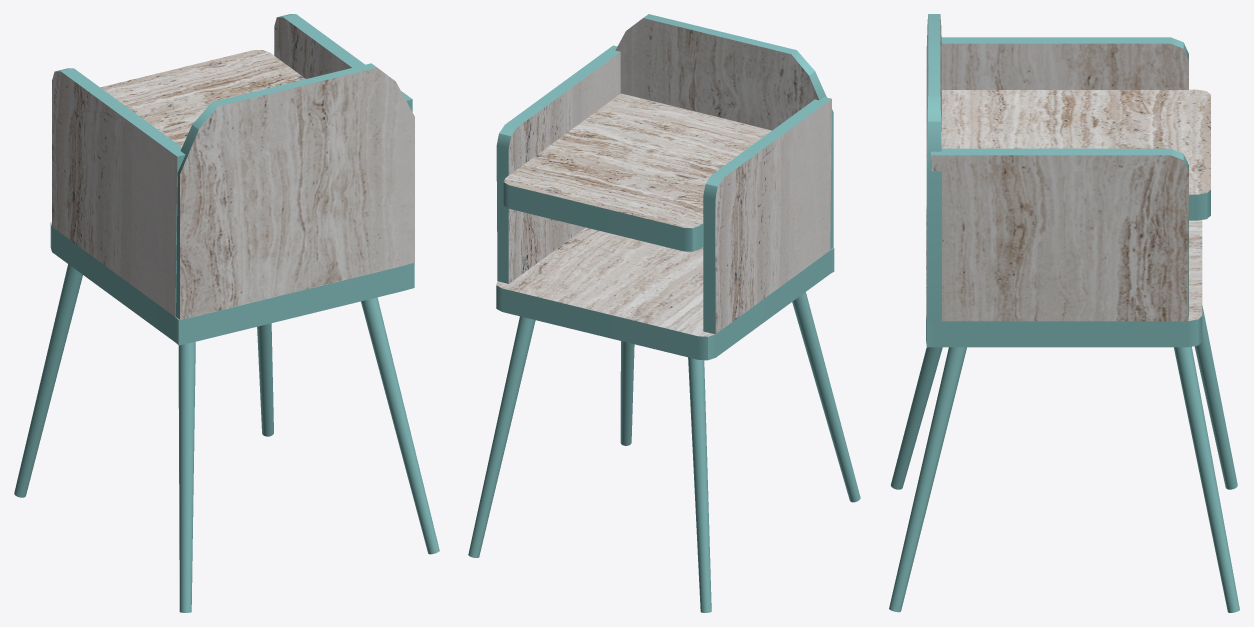
Rendered from Obj_vid__16_cadireta_inf_low_poly.fbx.
3 views of the same model, side by side, from view 1: azimuth 30°, elevation 25°; view 2: azimuth 150°, elevation 25°; view 3: azimuth 270°, elevation 25° (orthographic). The views are drawn at different scales.
Parts seen in each view (by area): view 1: Obj_vid__16_cadireta_inf_low_poly; view 2: Obj_vid__16_cadireta_inf_low_poly; view 3: Obj_vid__16_cadireta_inf_low_poly.
Boxes of the visible parts, x1,y1,x2,y2 form: Obj_vid__16_cadireta_inf_low_poly: (14,14,439,612); Obj_vid__16_cadireta_inf_low_poly: (468,14,860,612); Obj_vid__16_cadireta_inf_low_poly: (889,14,1239,612).
Bounding box in the file's own units: 0.5736 × 1.02 × 0.6517.
